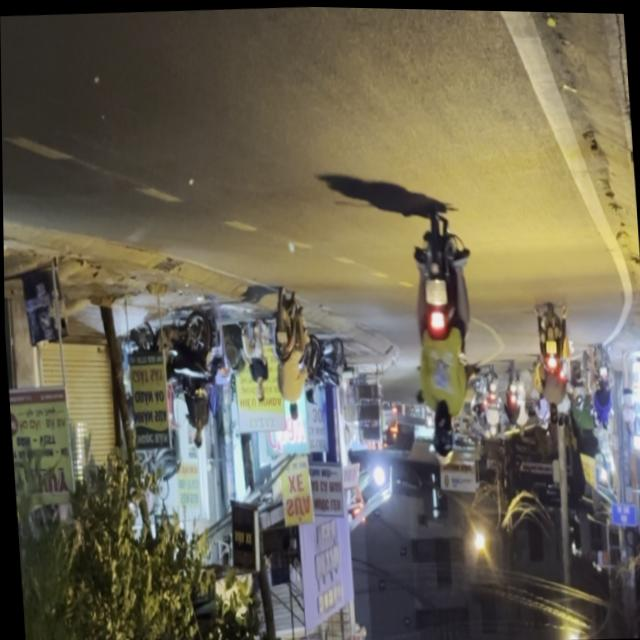helmet: (428, 410, 454, 459)
licenseplate: (402, 202, 482, 465)
nohelmet: (424, 278, 445, 304)
